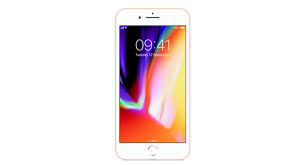iphone: (110, 2, 190, 163)
iphone8: (111, 4, 193, 162)
